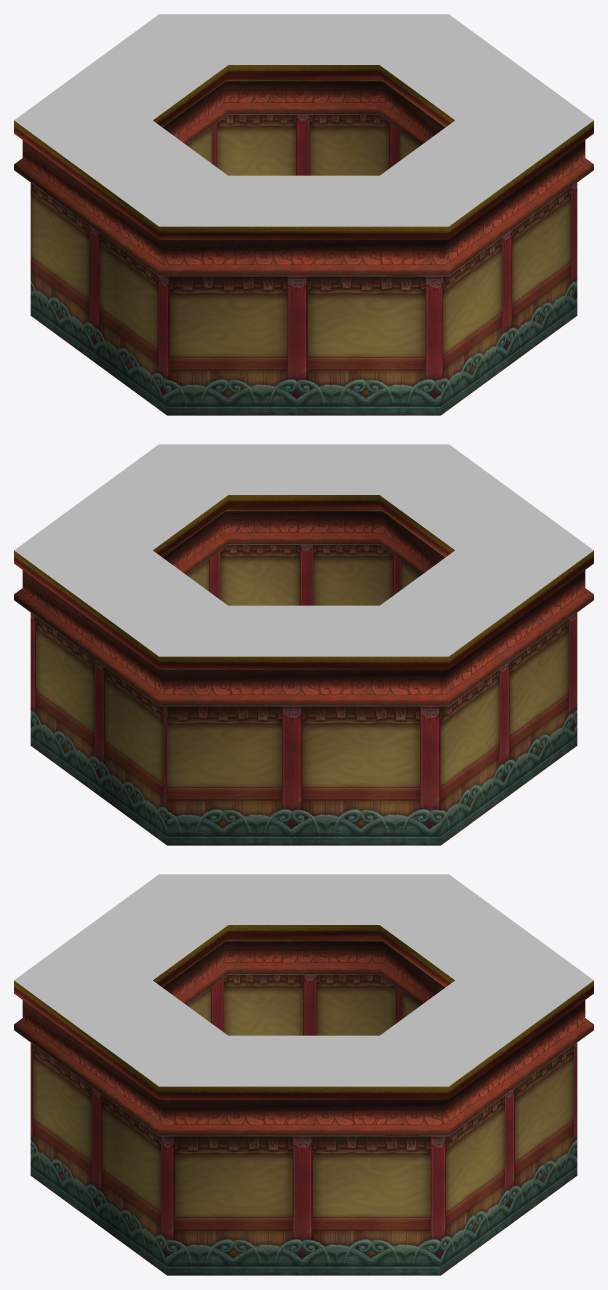
File: environment_Building_hantianta_001_a.FBX
The picture shows the model from 3 angles, top to bottom: view 1: azimuth 30°, elevation 25°; view 2: azimuth 150°, elevation 25°; view 3: azimuth 270°, elevation 25°; orthographic projection.
Parts seen in each view (by area): view 1: environment_Building_hantianta_001_a01, environment_Building_hantianta_001_a02, environment_Building_hantianta_001_a03; view 2: environment_Building_hantianta_001_a01, environment_Building_hantianta_001_a02, environment_Building_hantianta_001_a03; view 3: environment_Building_hantianta_001_a01, environment_Building_hantianta_001_a02, environment_Building_hantianta_001_a03.
Part boxes in pixels (x1,y1,x2,y2): environment_Building_hantianta_001_a01: (30,115,577,415); environment_Building_hantianta_001_a02: (14,14,593,226); environment_Building_hantianta_001_a03: (14,65,593,276); environment_Building_hantianta_001_a01: (30,545,577,845); environment_Building_hantianta_001_a02: (14,444,593,656); environment_Building_hantianta_001_a03: (14,495,593,706); environment_Building_hantianta_001_a01: (30,975,577,1275); environment_Building_hantianta_001_a02: (14,874,593,1086); environment_Building_hantianta_001_a03: (14,925,593,1136).
Size of the model in its own units: 3464 by 1486 by 4000.
